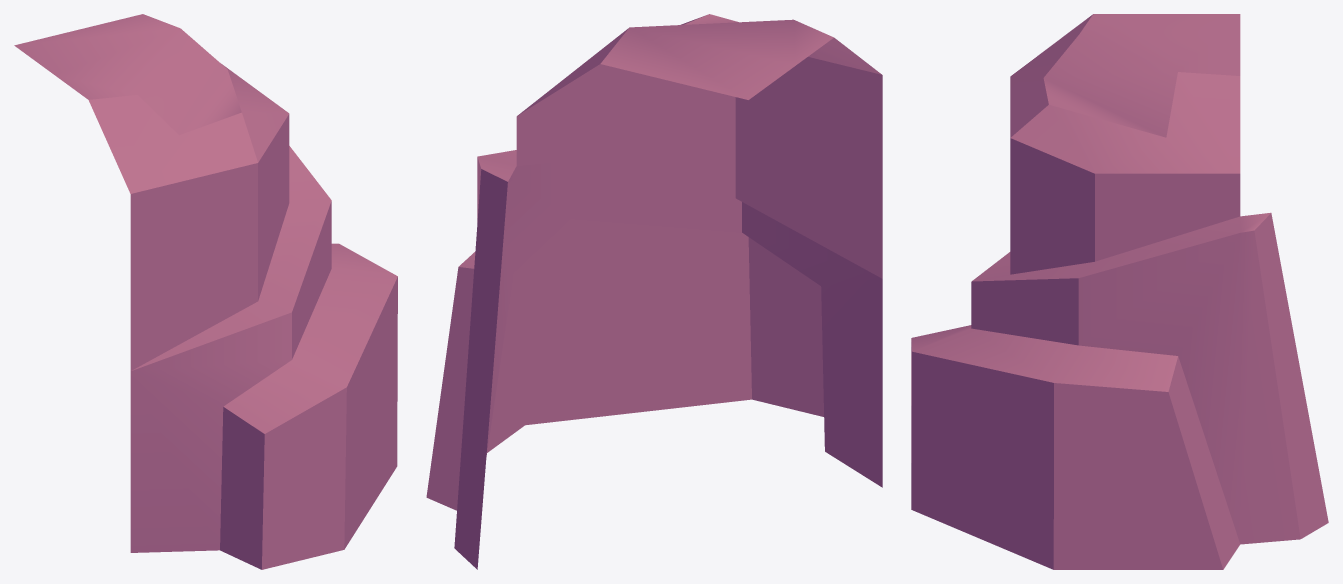
File: Module_Corner_OUT_Mesh_v01.fbx
3 views of the same model, side by side, from view 1: azimuth 30°, elevation 25°; view 2: azimuth 150°, elevation 25°; view 3: azimuth 270°, elevation 25° (orthographic). The views are drawn at different scales.
Visible parts, largest first — view 1: Module_Corner_OUT_Mesh_v01; view 2: Module_Corner_OUT_Mesh_v01; view 3: Module_Corner_OUT_Mesh_v01.
Part boxes in pixels (bbox=[...]): Module_Corner_OUT_Mesh_v01: bbox=[14, 14, 397, 569]; Module_Corner_OUT_Mesh_v01: bbox=[426, 14, 882, 569]; Module_Corner_OUT_Mesh_v01: bbox=[911, 14, 1328, 569].
Bounding box in the file's own units: 287 × 407 × 363.
